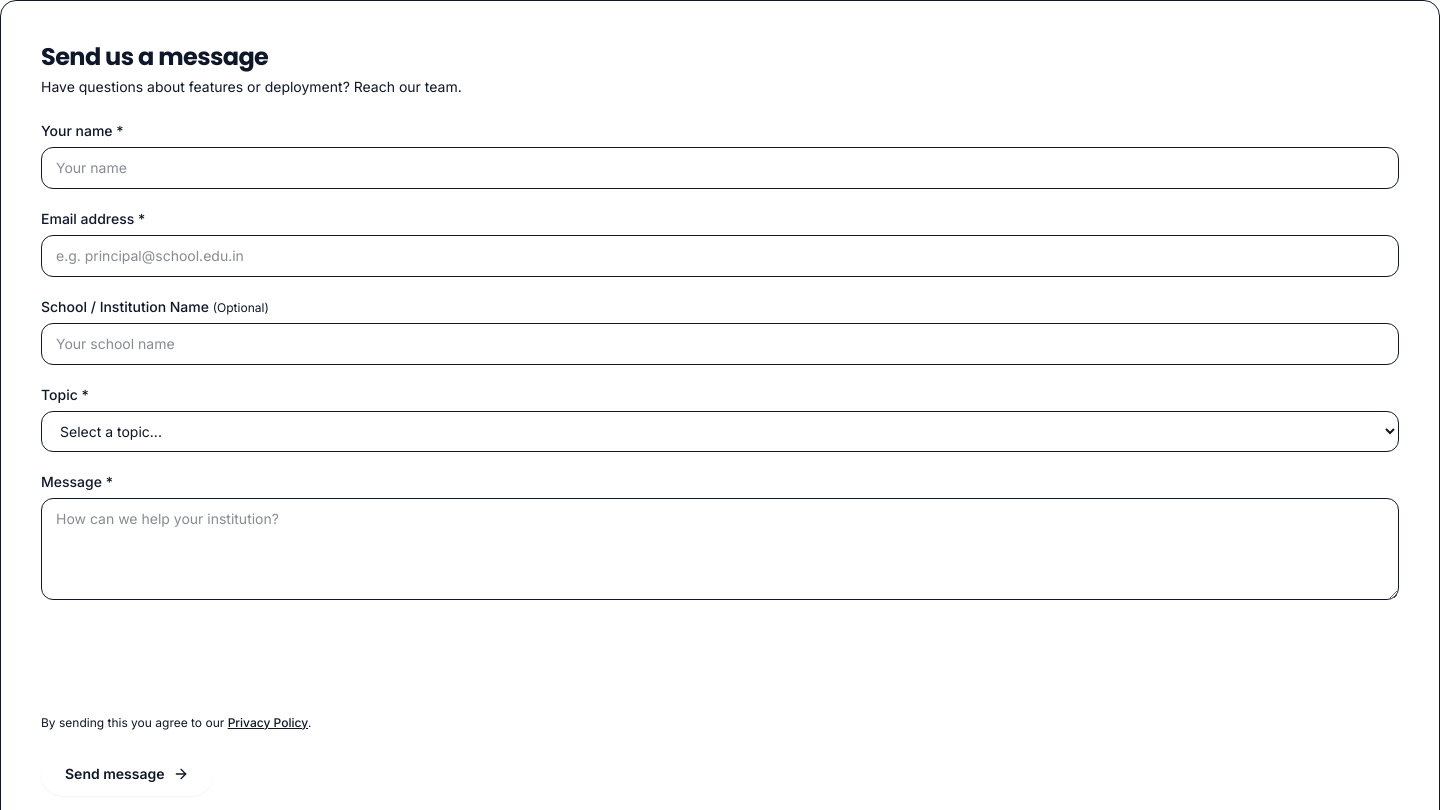
Lead Forms Unit Tests (Contact & Demo) › Flag ON (siteConfig.hasLeadBackend = true) › submits contact inquiry to API and displays opaque receipt on 201
Step 1. Type "Director Roy" into the field labelled "Your name *" → (720, 168), box [41,147,1399,189]
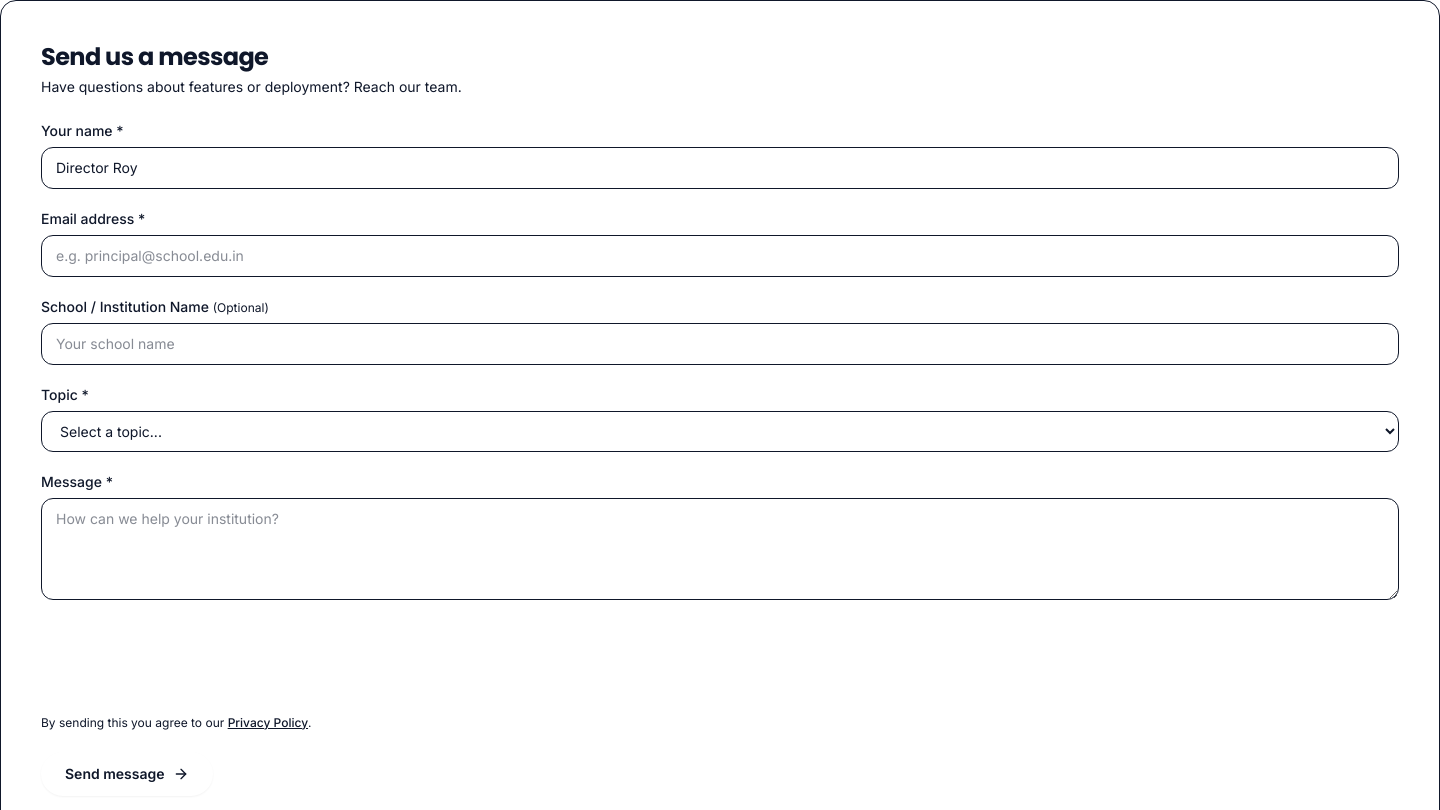
Step 2. Type "director@stxaviers.edu" into the field labelled "Email address *" → (720, 256), box [41,235,1399,277]
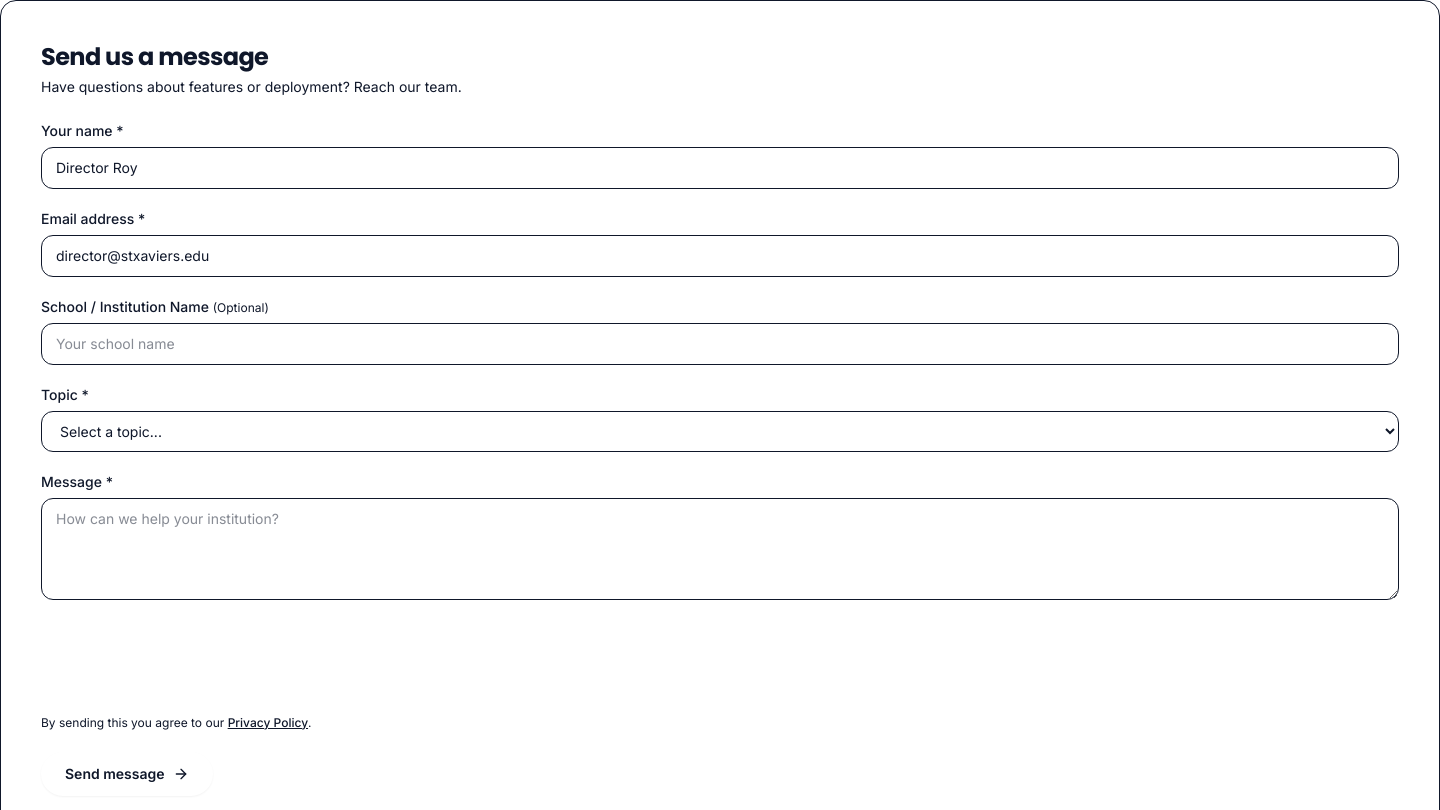
Step 3. Select "School Onboarding & Migration" in the dropdown labelled "Topic *" → (720, 432), box [41,411,1399,452]
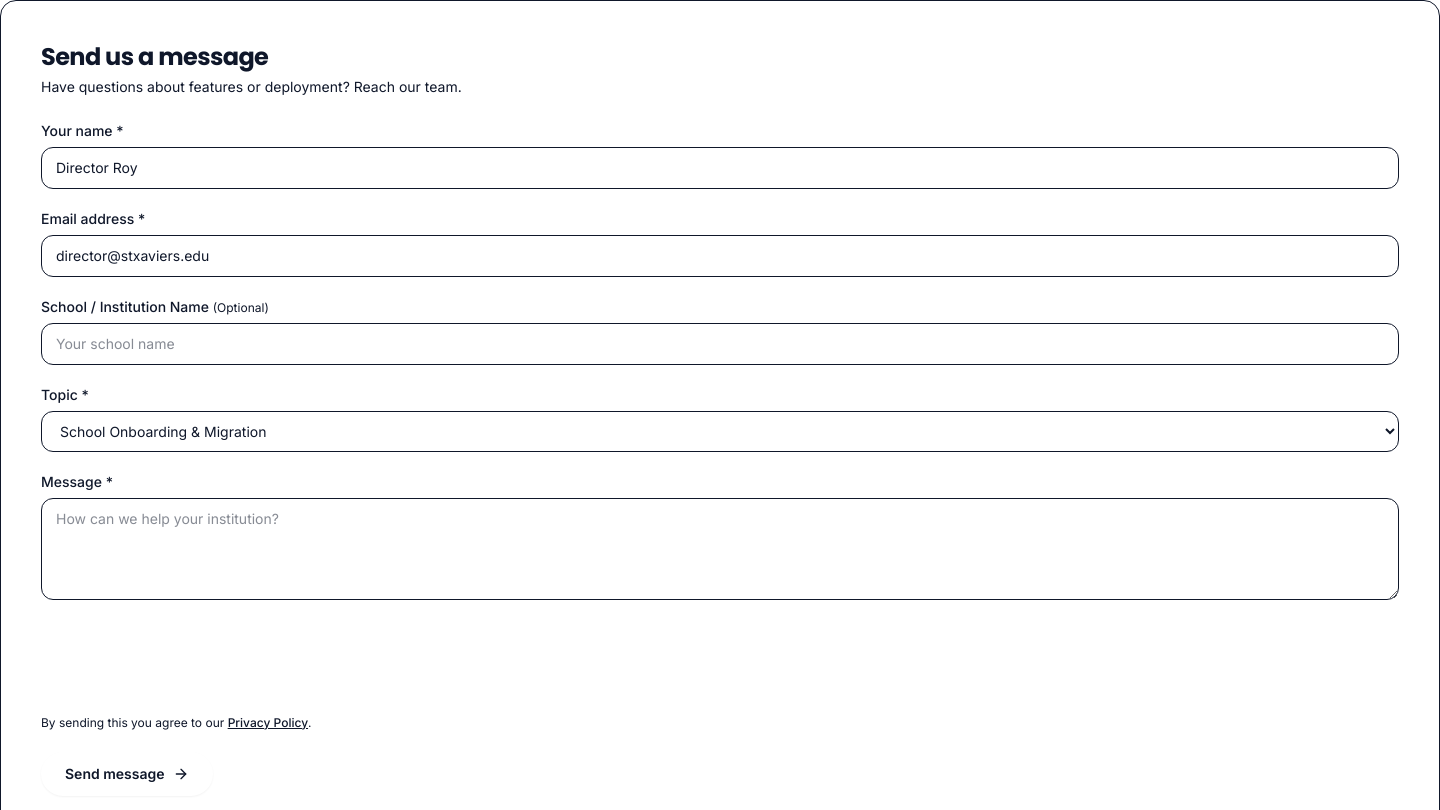
Step 4. Type "We would like to discuss campus fee automation." into the text box labelled "Message *" → (720, 549), box [41,498,1399,600]
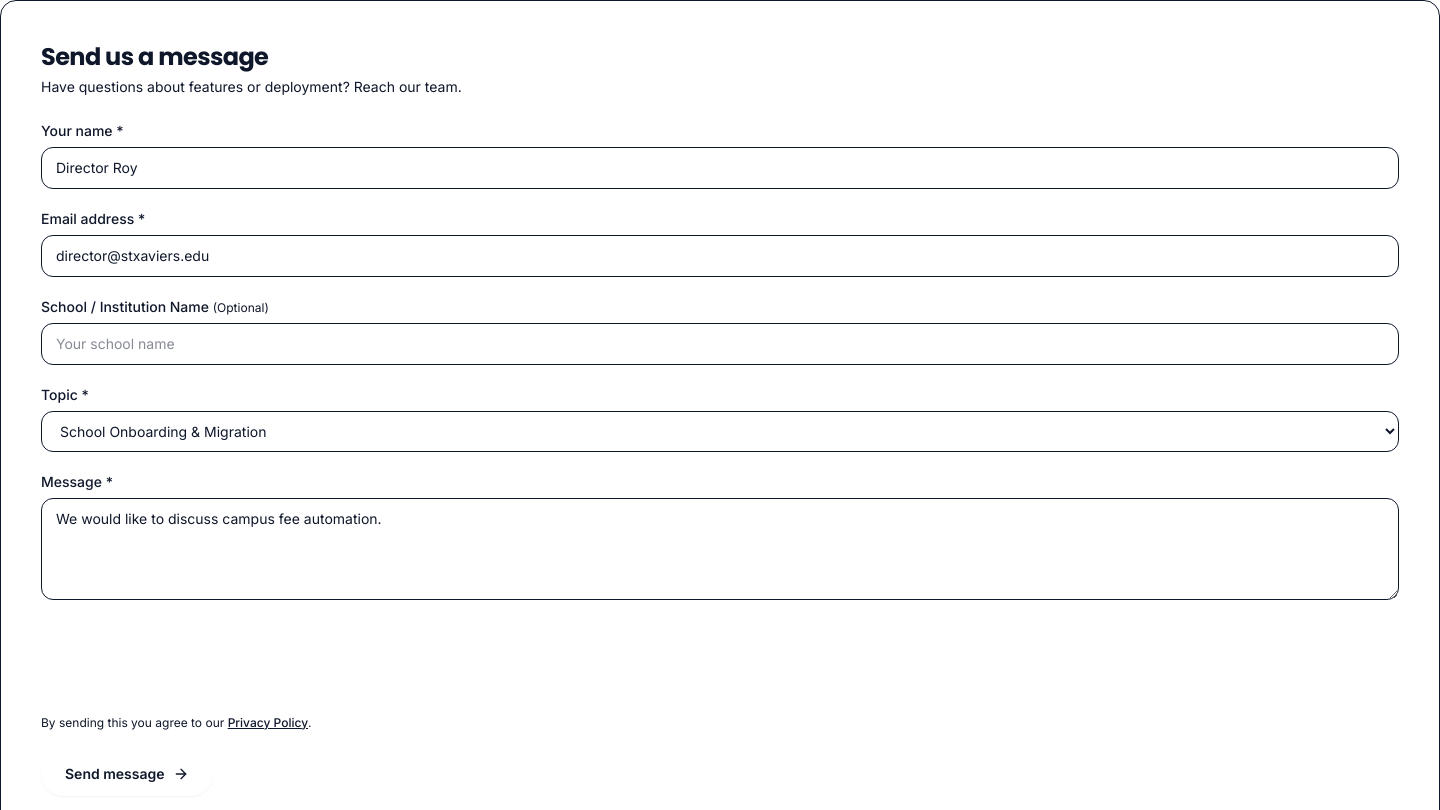
Step 5. Click the button "Send message" → click(127, 774), box [41,752,213,796]
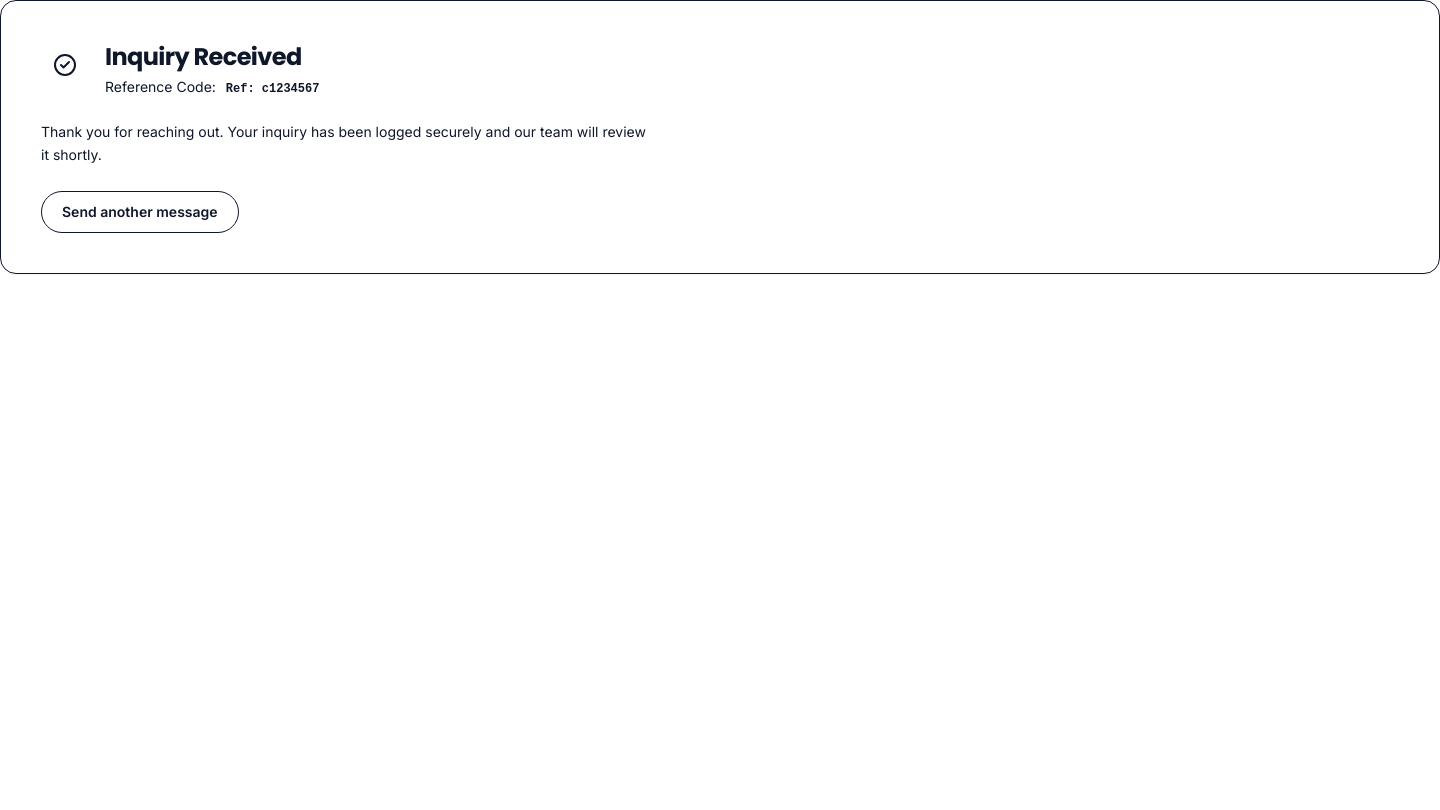
Check: the message with test id "contact-receipt" is shown, box [0,0,1439,274]
Check: the heading "Inquiry Received" is shown, box [105,41,325,73]
Check: the text "Ref: c1234567" is shown, box [220,80,325,98]
